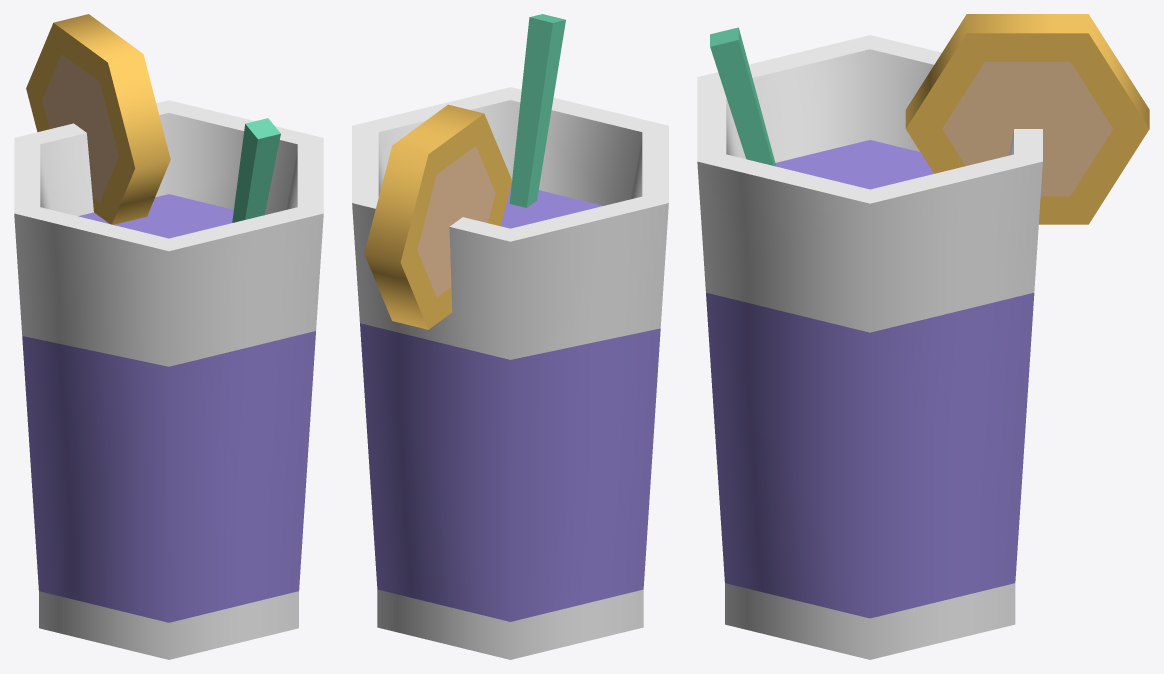
The model's file is sodaGlass.dae.
3 views of the same model, side by side, from view 1: azimuth 30°, elevation 25°; view 2: azimuth 150°, elevation 25°; view 3: azimuth 270°, elevation 25° (orthographic). The views are drawn at different scales.
Parts seen in each view (by area): view 1: sodaGlass, lemon, straw; view 2: sodaGlass, lemon, straw; view 3: sodaGlass, lemon, straw.
Part boxes in pixels (bbox=[...]): sodaGlass: bbox=[14, 100, 323, 659]; lemon: bbox=[26, 14, 170, 224]; straw: bbox=[232, 118, 280, 222]; sodaGlass: bbox=[352, 87, 668, 659]; lemon: bbox=[364, 104, 512, 329]; straw: bbox=[509, 14, 565, 207]; sodaGlass: bbox=[697, 35, 1042, 659]; lemon: bbox=[905, 14, 1149, 224]; straw: bbox=[710, 27, 776, 166].
Bounding box in the file's own units: 0.2618 × 0.4134 × 0.2967.
